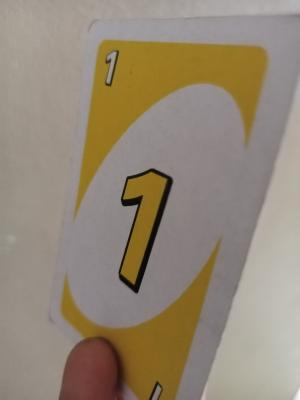num_1: (100, 121, 184, 322)
yellow: (94, 41, 137, 115)
